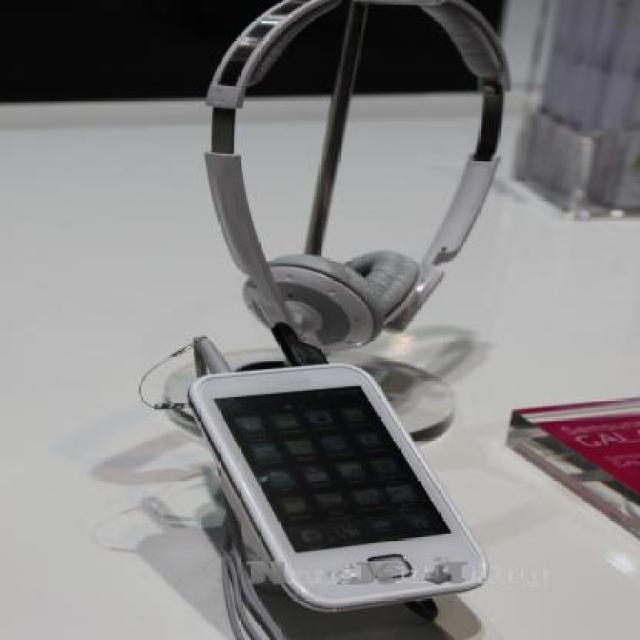earphone: (191, 0, 464, 356)
smart phone: (185, 364, 492, 628)
